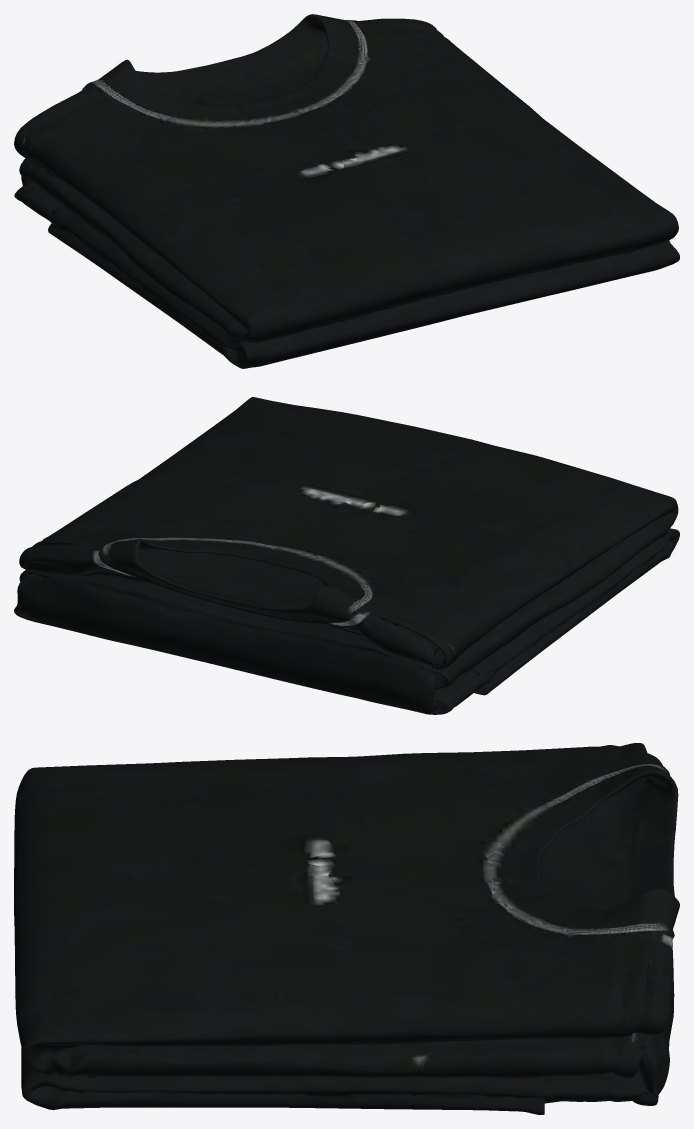
The model's file is tee-black-folded.glb.
3 renders of one model, top to bottom at view 1: azimuth 30°, elevation 25°; view 2: azimuth 150°, elevation 25°; view 3: azimuth 270°, elevation 25°, orthographic. The views are drawn at different scales.
Bounding box in the file's own units: 1.9 × 0.4623 × 1.89.
1 material, 1 textured.
